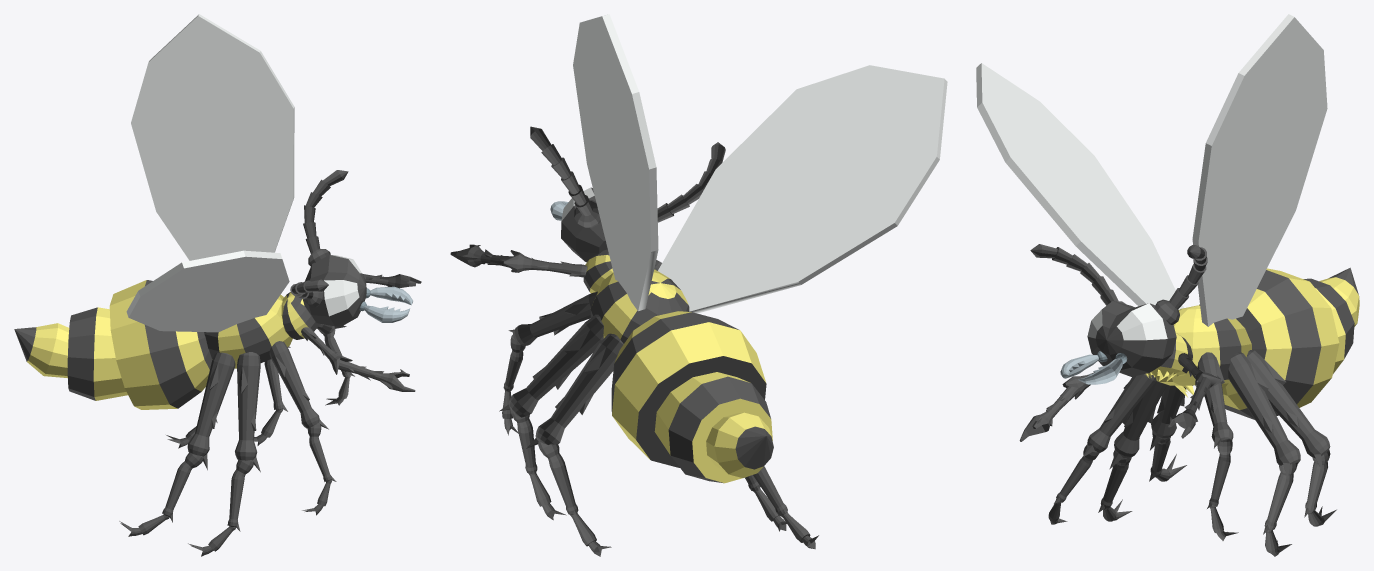
Rendered from bee.glb.
3 views of the same model, side by side, from view 1: azimuth 30°, elevation 25°; view 2: azimuth 150°, elevation 25°; view 3: azimuth 270°, elevation 25° (orthographic). The views are drawn at different scales.
Parts seen in each view (by area): view 1: group1967926661; view 2: group1967926661; view 3: group1967926661.
Boxes of the visible parts, x1=… form: group1967926661: x1=14, y1=14, x2=421, y2=556; group1967926661: x1=450, y1=14, x2=947, y2=556; group1967926661: x1=976, y1=14, x2=1359, y2=556.
Bounding box in the file's own units: 0.2034 × 0.2642 × 0.168.
